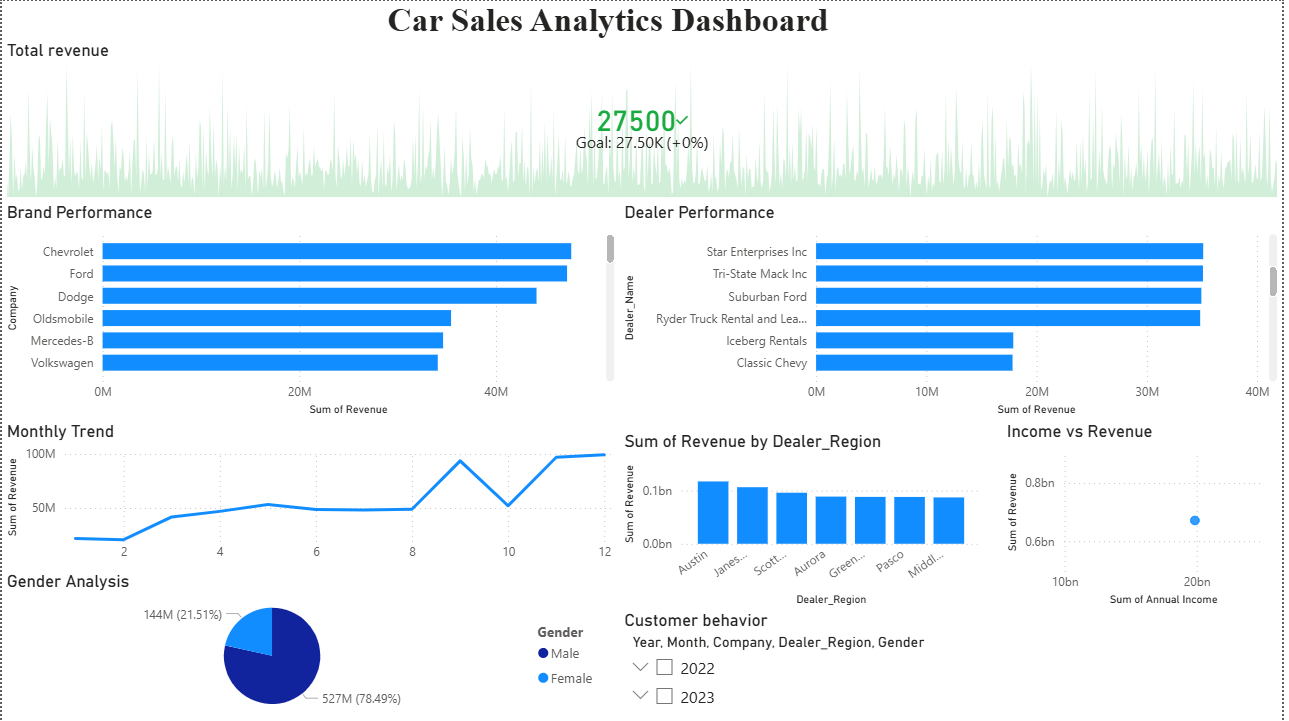

This screenshot's page, from the dashboard's own definition file:
{"tool":"powerbi","page":{"name":"Page 1","canvas":[1280,720],"ordinal":0},"visuals":[{"type":"kpi","title":"Total revenue","fields":{"Indicator":["Sum(clean_car_sales.Revenue)"],"TrendLine":["clean_car_sales.Car_id"],"Goal":["Avg(clean_car_sales.Revenue)"]},"box":[0,39.1,1280.3,162.6],"z":0},{"type":"clusteredBarChart","title":"Brand Performance","fields":{"Category":["clean_car_sales.Company"],"Y":["Sum(clean_car_sales.Revenue)"]},"box":[0,201.7,617.5,218.2],"z":1000},{"type":"columnChart","fields":{"Category":["clean_car_sales.Dealer_Region"],"Y":["Sum(clean_car_sales.Revenue)"]},"box":[617.5,429.5,366.4,179.8],"z":2000},{"type":"lineChart","title":"Monthly Trend","fields":{"Category":["clean_car_sales.Month"],"Y":["Sum(clean_car_sales.Revenue)"]},"box":[0,419.9,617.5,149.6],"z":3000},{"type":"barChart","title":"Dealer Performance","fields":{"Category":["clean_car_sales.Dealer_Name"],"Y":["Sum(clean_car_sales.Revenue)"]},"box":[617.5,201.7,662.8,218.2],"z":4000},{"type":"pieChart","title":"Gender Analysis","fields":{"Category":["clean_car_sales.Gender"],"Y":["Sum(clean_car_sales.Revenue)"]},"box":[0,569.5,606.5,150.9],"z":4001},{"type":"scatterChart","title":"Income vs Revenue","fields":{"X":["Sum(clean_car_sales.Annual Income)"],"Y":["Sum(clean_car_sales.Revenue)"]},"box":[1000.3,419.9,279.9,189.4],"z":4002},{"type":"slicer","title":"Customer behavior","fields":{"Values":["clean_car_sales.Year","clean_car_sales.Month","clean_car_sales.Company","clean_car_sales.Dealer_Region","clean_car_sales.Gender"]},"box":[617.5,609.3,662.8,111.1],"z":4003},{"type":"textbox","title":"Car Sales Analytics Dashboard","box":[234.8,0,742.3,39.1],"z":4004}]}

Visuals, with their boxes in screenshot pixels (x1, y1, x2, y2), scaled from the page's 1280x720 canvas onto the 1289x721 screenshot:
"Total revenue" kpi: detection(0, 39, 1288, 202)
"Brand Performance" clusteredBarChart: detection(0, 202, 622, 420)
columnChart - clean_car_sales.Dealer_Region x Sum(clean_car_sales.Revenue): detection(622, 430, 991, 610)
"Monthly Trend" lineChart: detection(0, 420, 622, 570)
"Dealer Performance" barChart: detection(622, 202, 1288, 420)
"Gender Analysis" pieChart: detection(0, 570, 611, 720)
"Income vs Revenue" scatterChart: detection(1007, 420, 1288, 610)
"Customer behavior" slicer: detection(622, 610, 1288, 720)
"Car Sales Analytics Dashboard" textbox: detection(236, 0, 984, 39)
